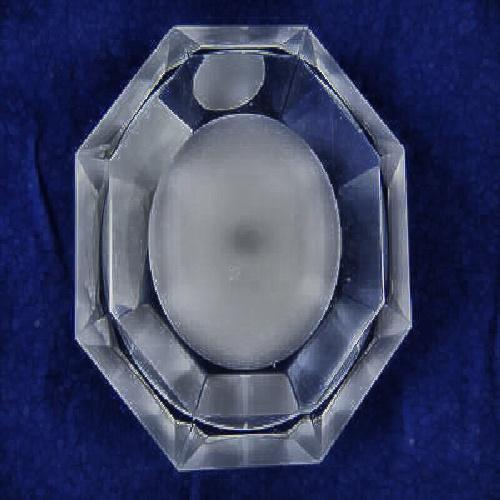lamp: (86, 31, 412, 471)
